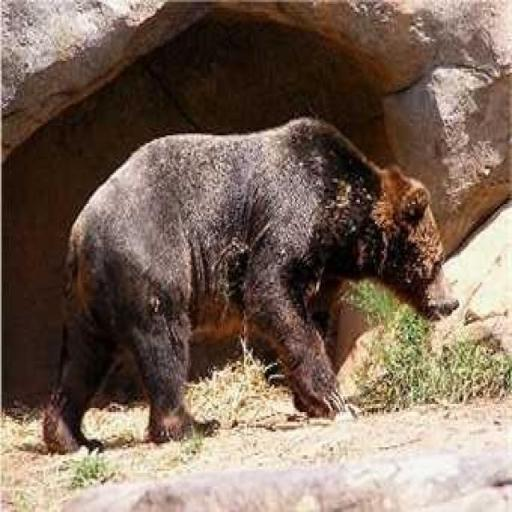Bear: (39, 114, 459, 455)
